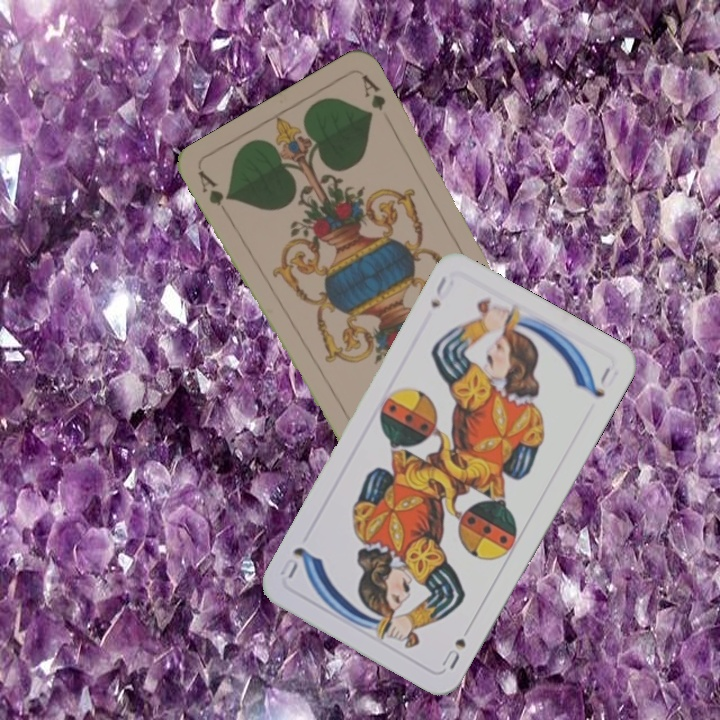GA: (193, 167, 233, 220)
SU: (437, 634, 469, 672), (426, 272, 457, 311)
